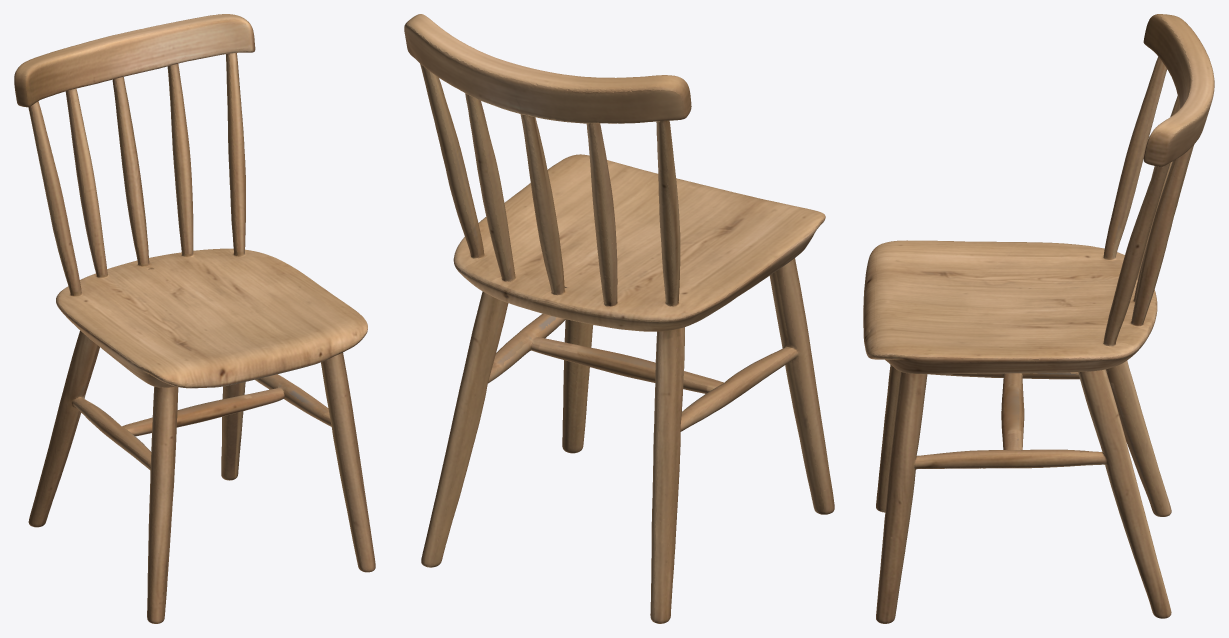
Rendered from dining-chair.glb.
The picture shows the model from 3 angles, left to right: view 1: azimuth 30°, elevation 25°; view 2: azimuth 150°, elevation 25°; view 3: azimuth 270°, elevation 25°; orthographic projection. The views are drawn at different scales.
Parts seen in each view (by area): view 1: geometry_0; view 2: geometry_0; view 3: geometry_0.
Part boxes in pixels (x1,y1,x2,y2): geometry_0: (14, 14, 375, 623); geometry_0: (404, 14, 834, 623); geometry_0: (863, 14, 1214, 623).
Bounding box in the file's own units: 0.4379 × 0.82 × 0.526.
1 material, 1 textured.
